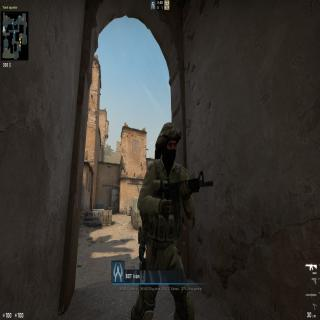CT-Head: (154, 117, 182, 169)
